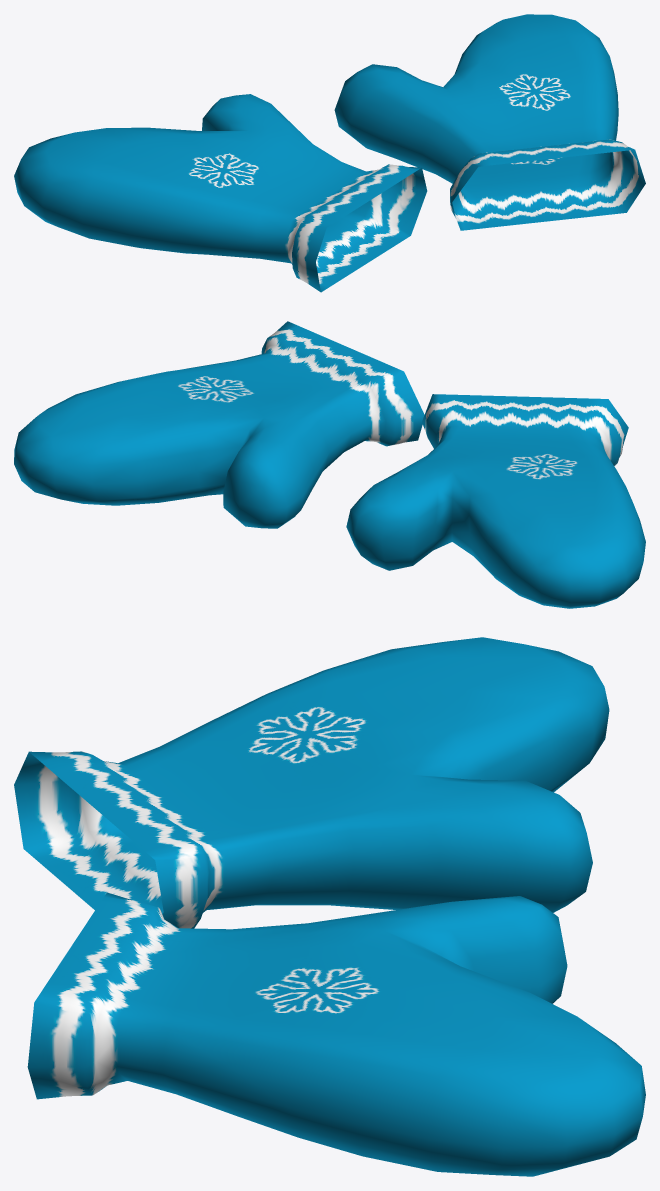
The model's file is guantes.fbx.
3 renders of one model, top to bottom at view 1: azimuth 30°, elevation 25°; view 2: azimuth 150°, elevation 25°; view 3: azimuth 270°, elevation 25°, orthographic. The views are drawn at different scales.
Parts seen in each view (by area): view 1: polySurface1; view 2: polySurface1; view 3: polySurface1.
Part boxes in pixels (left/top/right/bottom): polySurface1: left=14, top=14, right=645, bottom=292; polySurface1: left=14, top=321, right=645, bottom=608; polySurface1: left=14, top=637, right=645, bottom=1176.
Bounding box in the file's own units: 14.9 × 1.79 × 8.4.
